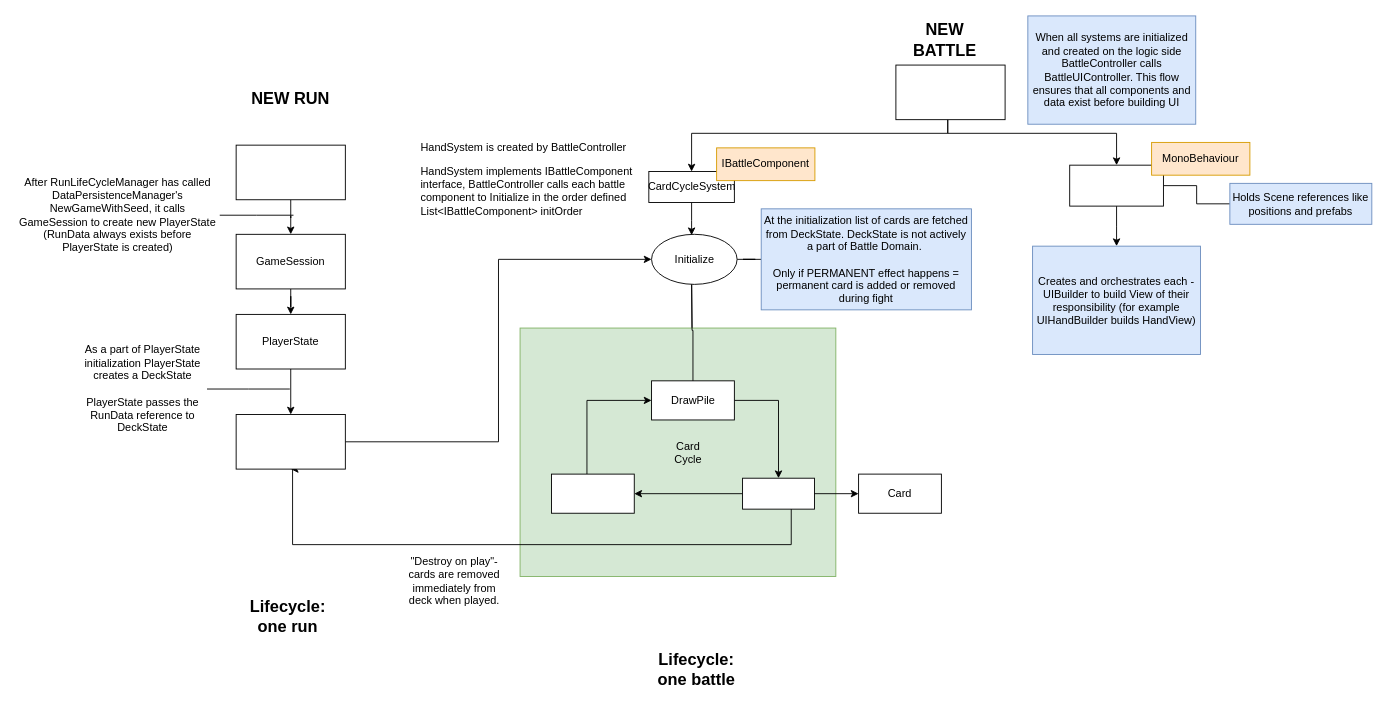
Some shapes in this 1388 by 705 pixel diagram are drawn without their labels. Here are the shapes that lost their labels. From the top down, the centre of each, then its label:
At pixel 950 92: "BattleController".
At pixel 290 172: "RunLifeCycleManager".
At pixel 1116 185: "BattleUIController".
At pixel 290 441: "DeckState".
At pixel 592 493: "DiscardPile".
At pixel 778 493: "Hand".
